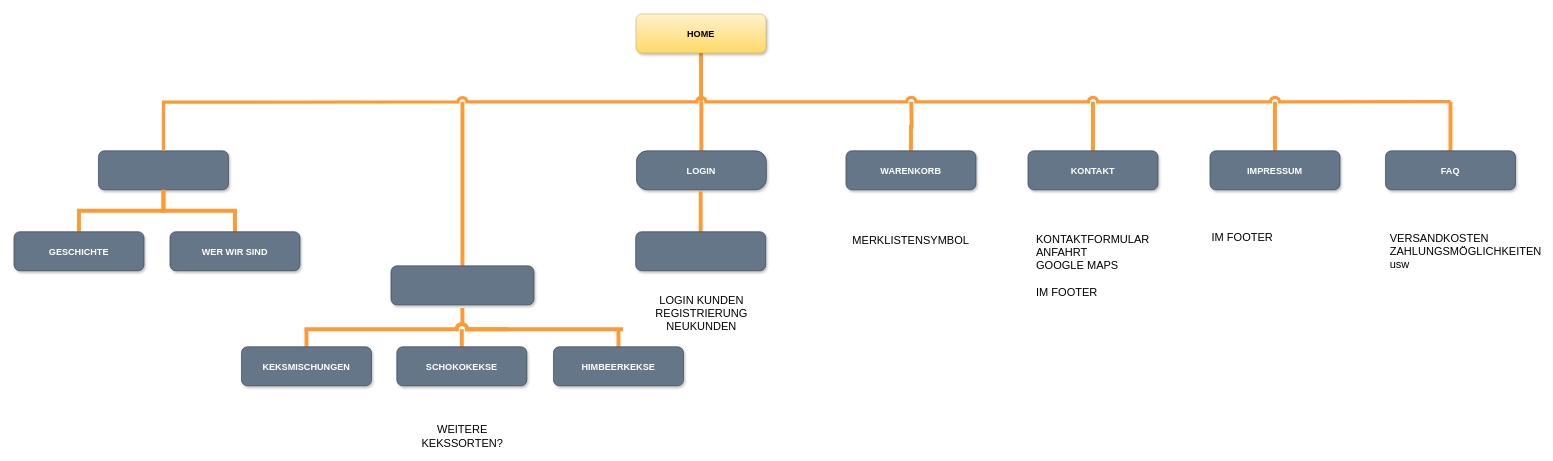
The diagram is 1553 pixels wide and 461 high, and some of its shapes have lost their labels. Each missing label, with the centre of its shape:
KUNDEN / NEUKUNDEN: the point at 701,251
ONLINESHOP: the point at 463,286
ÜBER UNS: the point at 163,171
